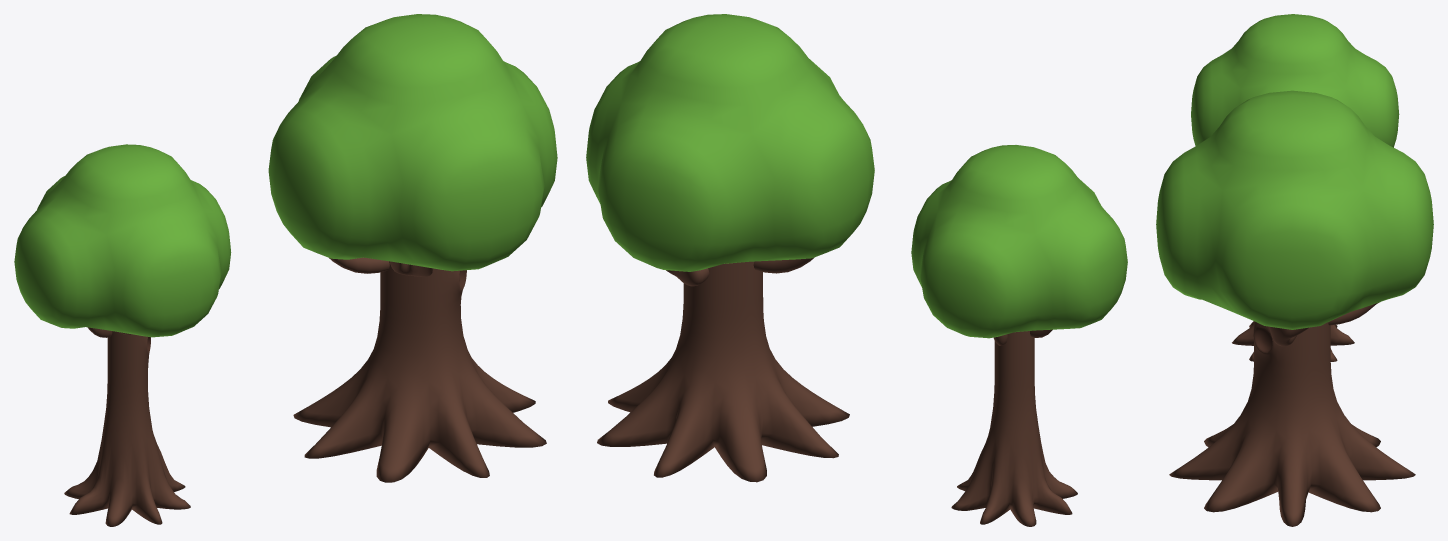
The model's file is Tree.fbx.
The picture shows the model from 3 angles, left to right: view 1: azimuth 30°, elevation 25°; view 2: azimuth 150°, elevation 25°; view 3: azimuth 270°, elevation 25°; orthographic projection. The views are drawn at different scales.
Visible parts, largest first — view 1: Fat Tree, Thin Tree; view 2: Fat Tree, Thin Tree; view 3: Fat Tree, Thin Tree.
Boxes of the visible parts, bbox=[...] form: Fat Tree: bbox=[268, 14, 557, 482]; Thin Tree: bbox=[14, 144, 231, 526]; Fat Tree: bbox=[586, 14, 874, 482]; Thin Tree: bbox=[911, 145, 1127, 526]; Fat Tree: bbox=[1156, 90, 1433, 526]; Thin Tree: bbox=[1191, 14, 1399, 361].
Size of the model in its own units: 692 by 523 by 354.
